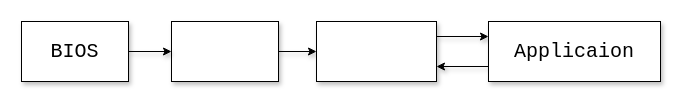
This 684x106 diagram has some shape labels left out. Each missing label, with the centre of its shape:
Kernel: the point at 377,52
MBR: the point at 225,52
